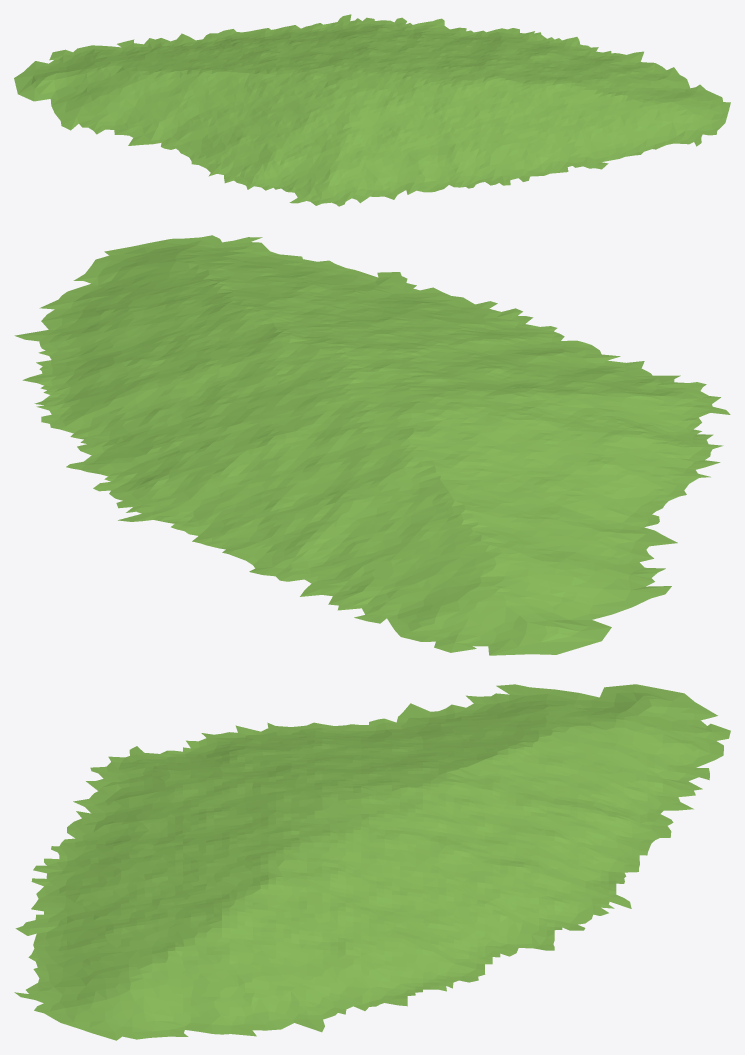
The model's file is MT_Island_H_b_06.fbx.
3 views of the same model, one above another, from view 1: azimuth 30°, elevation 25°; view 2: azimuth 150°, elevation 25°; view 3: azimuth 270°, elevation 25° (orthographic). The views are drawn at different scales.
Visible parts, largest first — view 1: MT_Island_H_b_06; view 2: MT_Island_H_b_06; view 3: MT_Island_H_b_06.
Part boxes in pixels (x1=…): MT_Island_H_b_06: x1=14, y1=14, x2=730, y2=206; MT_Island_H_b_06: x1=14, y1=235, x2=730, y2=655; MT_Island_H_b_06: x1=14, y1=684, x2=730, y2=1040.
Size of the model in its own units: 42967 by 2334 by 36480.
